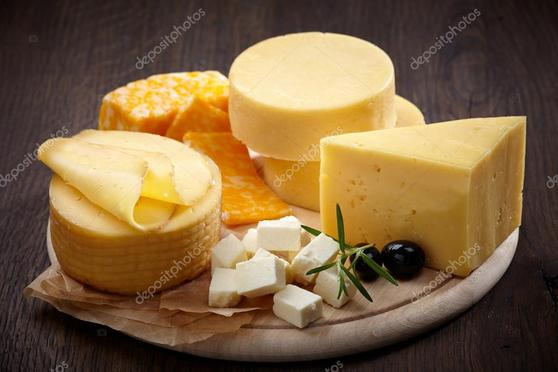cheese: (309, 112, 530, 280)
